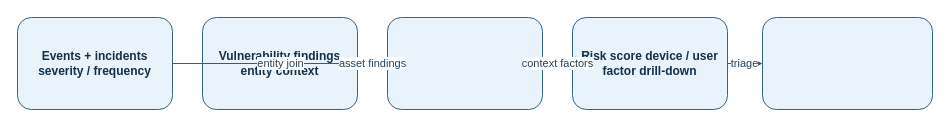
The diagram is 950 pixels wide and 127 high, and some of its shapes have lost their labels. Here are the shapes that lost their labels. From the top down, the centre of each, then its label:
At (464,63): "CMDB / identity asset criticality user importance".
At (847,63): "Analyst queue prioritize investigate".
